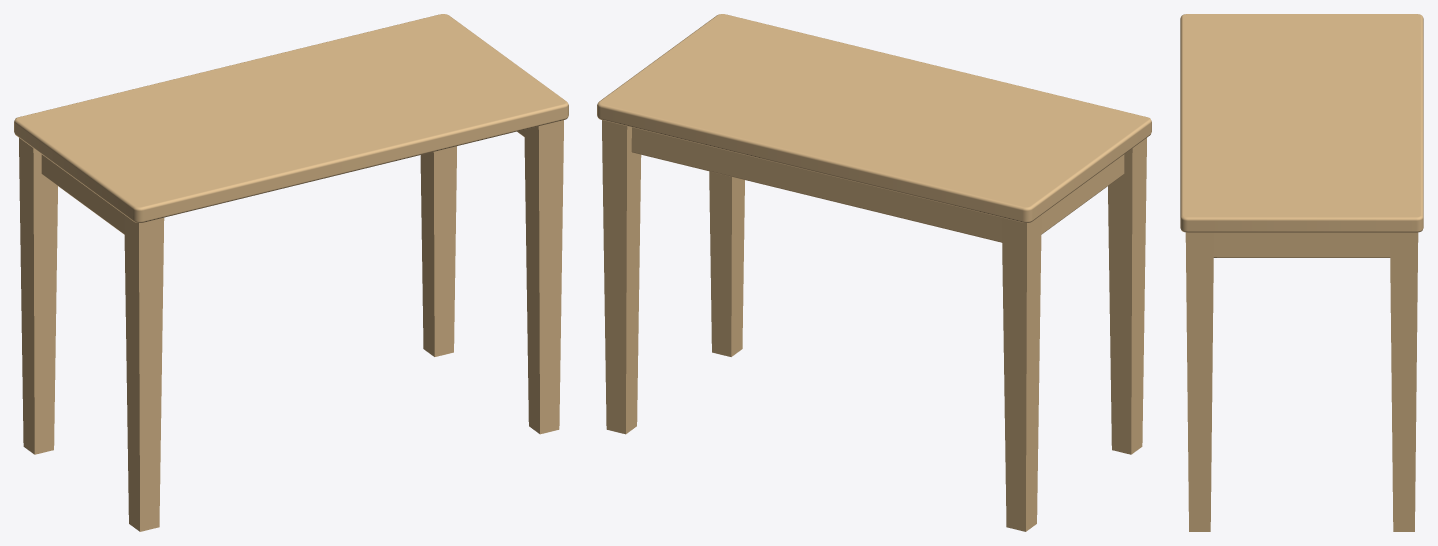
Rendered from desk_wood.glb.
The picture shows the model from 3 angles, left to right: view 1: azimuth 30°, elevation 25°; view 2: azimuth 150°, elevation 25°; view 3: azimuth 270°, elevation 25°; orthographic projection. The views are drawn at different scales.
Parts seen in each view (by area): view 1: desk_wood; view 2: desk_wood; view 3: desk_wood.
Boxes of the visible parts, x1,y1,x2,y2 form: desk_wood: (14,14,568,531); desk_wood: (597,14,1151,531); desk_wood: (1180,14,1423,531).
Bounding box in the file's own units: 1 × 0.72 × 0.5.
